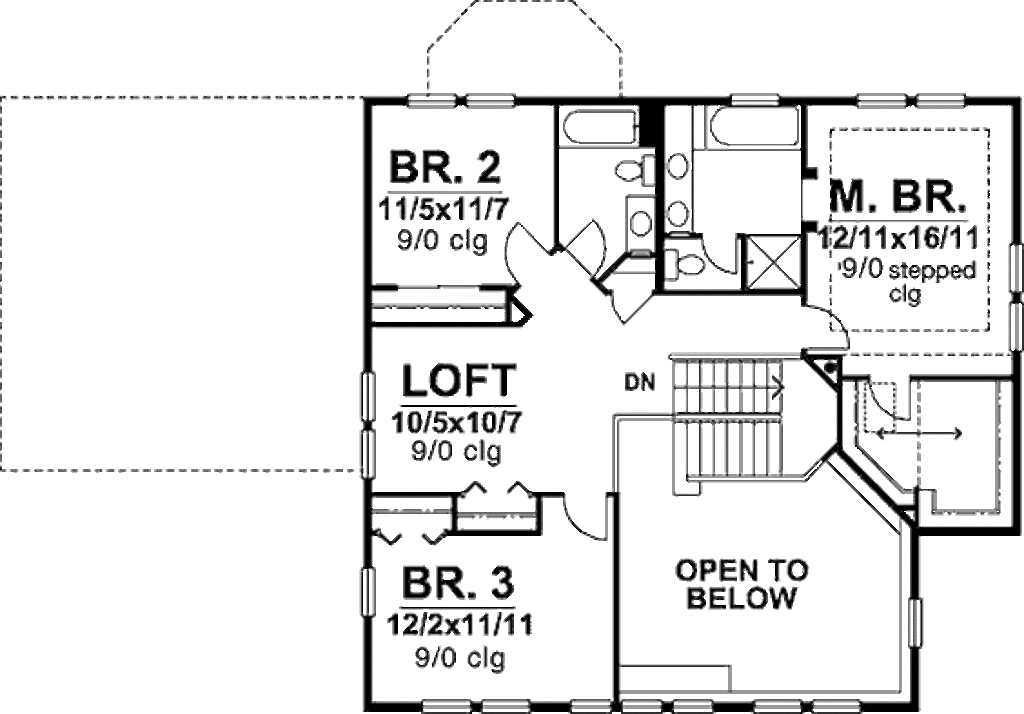door: (552, 213, 615, 275), (496, 214, 551, 284), (557, 488, 609, 543), (608, 295, 667, 333), (697, 232, 741, 279)
large_sink: (666, 245, 706, 286), (612, 154, 655, 189)
small_sink: (660, 147, 699, 241), (621, 191, 663, 247)
stairs: (672, 351, 838, 488)
tub: (697, 101, 807, 155), (557, 101, 648, 151)
window: (402, 88, 523, 117), (412, 688, 544, 713), (354, 372, 382, 489), (857, 87, 973, 115), (999, 233, 1024, 361), (563, 698, 726, 712), (754, 695, 868, 714), (904, 597, 938, 648), (355, 565, 383, 623), (727, 89, 785, 108)
